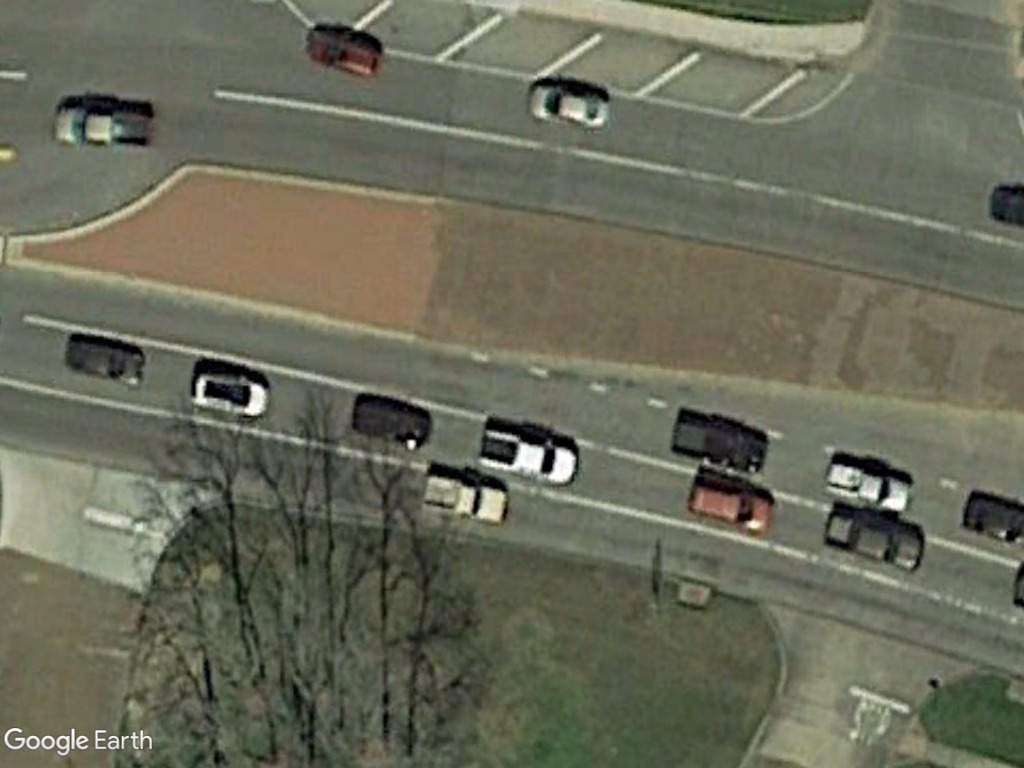car: (821, 505, 932, 574), (681, 475, 781, 541), (525, 75, 612, 138), (186, 365, 275, 423)
other: (476, 422, 585, 490), (46, 99, 160, 158), (824, 454, 917, 519), (419, 471, 517, 531)
